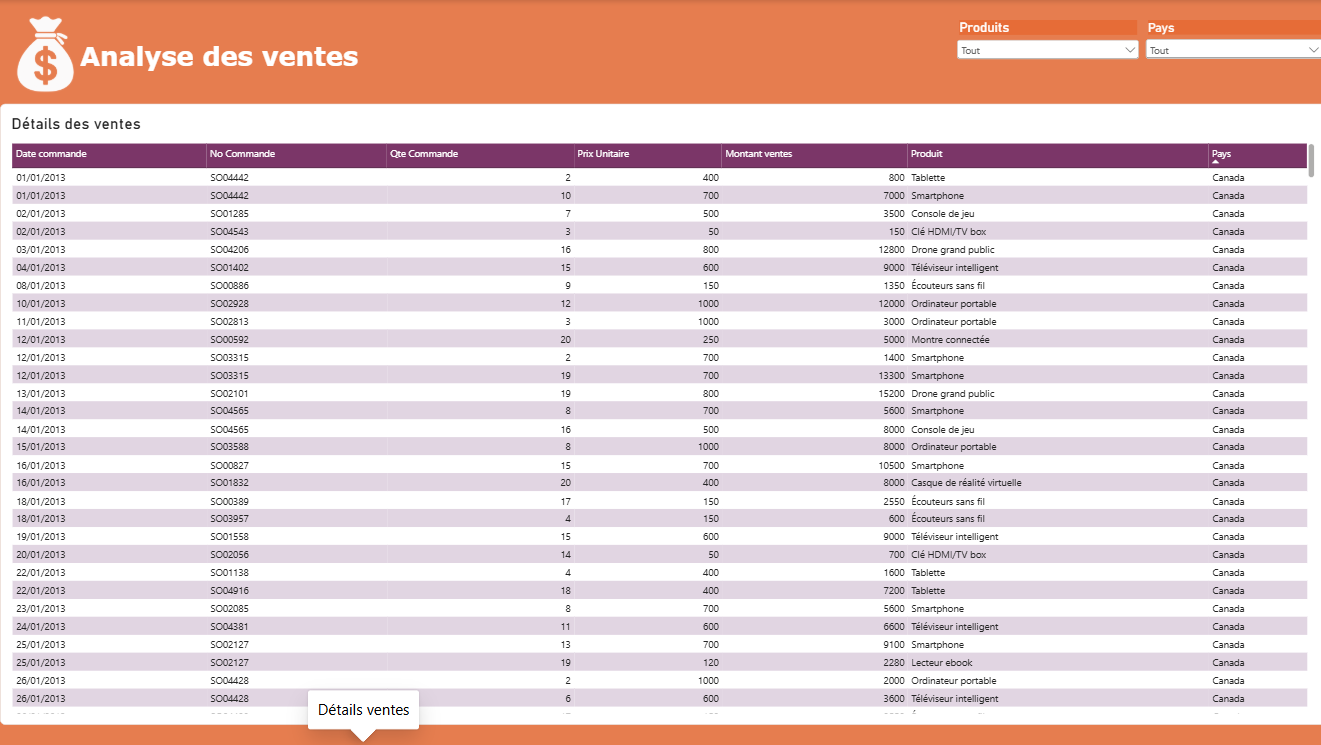

This screenshot's page, from the dashboard's own definition file:
{"tool":"powerbi","page":{"name":"Détails ventes","canvas":[1920,1080],"ordinal":1},"visuals":[{"type":"tableEx","title":"Détails des ventes","fields":{"Values":["Calendrier.Date","Ventes.SalesOrderNumber","Ventes.OrderQuantity","Ventes.USDPrice","Ventes.Montant ventes","Ventes.Produit","Pays.SalesCountry"]},"box":[0,150.2,1920.1,899.4],"z":0},{"type":"image","box":[0,0,132.1,150.2],"z":1},{"type":"slicer","fields":{"Values":["Pays.SalesCountry"]},"box":[1654,29,266,108.6],"z":2},{"type":"slicer","fields":{"Values":["Pays.SalesCountry"]},"box":[1654,29,266,108.6],"z":3},{"type":"slicer","fields":{"Values":["Produits.ProductName"]},"box":[1380.8,29,273.3,108.6],"z":4},{"type":"textbox","box":[115.8,57.9,439.7,79.6],"z":5}]}

Visuals, with their boxes in screenshot pixels (x1, y1, x2, y2), scaled from the page's 1920x1080 canvas onto the 1321x745 screenshot:
"Détails des ventes" tableEx: [0,104,1320,724]
image: [0,0,91,104]
slicer - Pays.SalesCountry: [1138,20,1320,95]
slicer - Pays.SalesCountry: [1138,20,1320,95]
slicer - Produits.ProductName: [950,20,1138,95]
textbox: [80,40,382,95]
